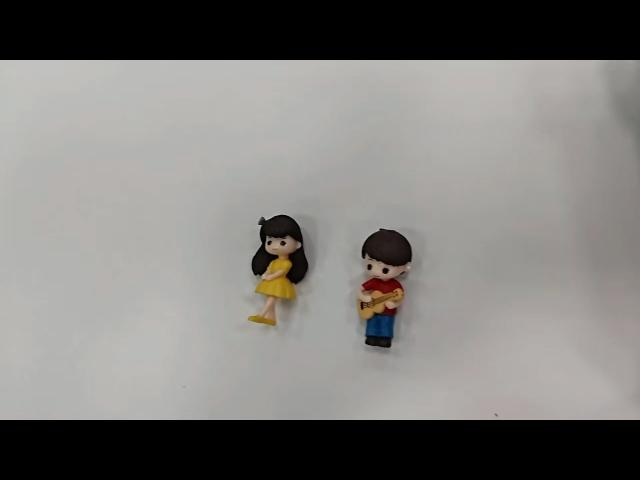man: (350, 223, 416, 349)
woman: (248, 212, 312, 332)
